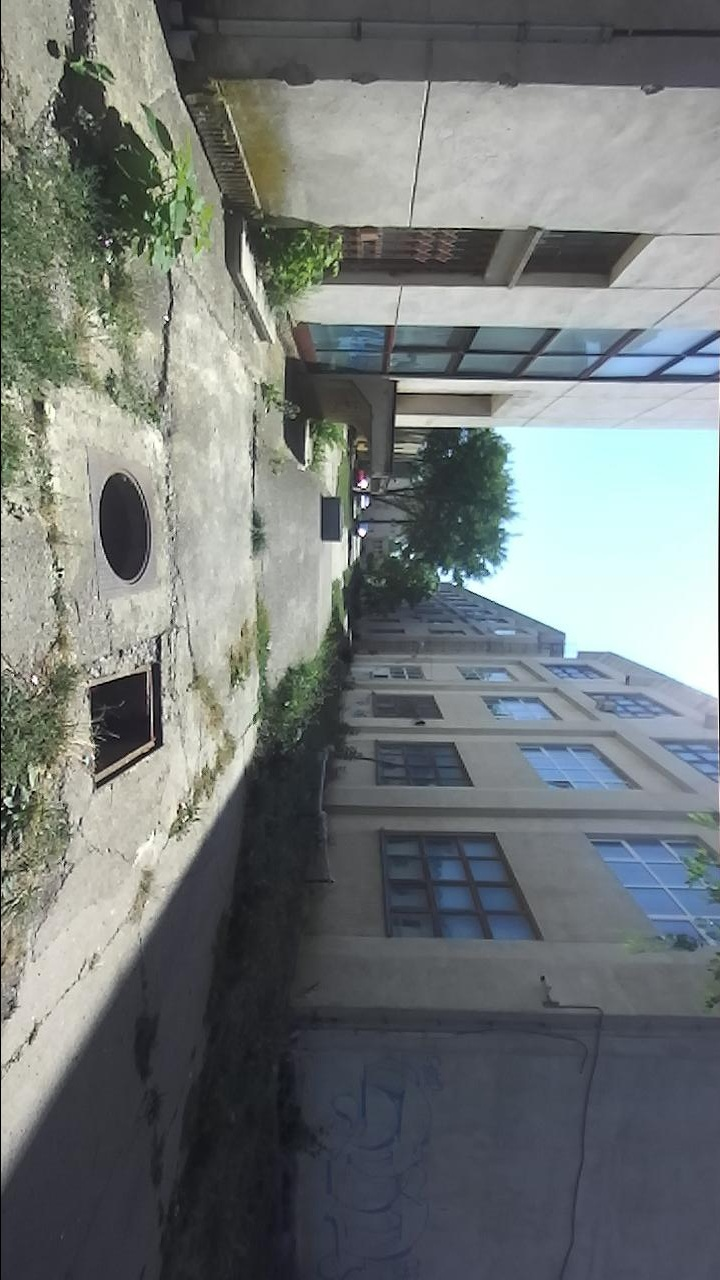drain: (83, 657, 168, 796), (94, 462, 157, 590)
